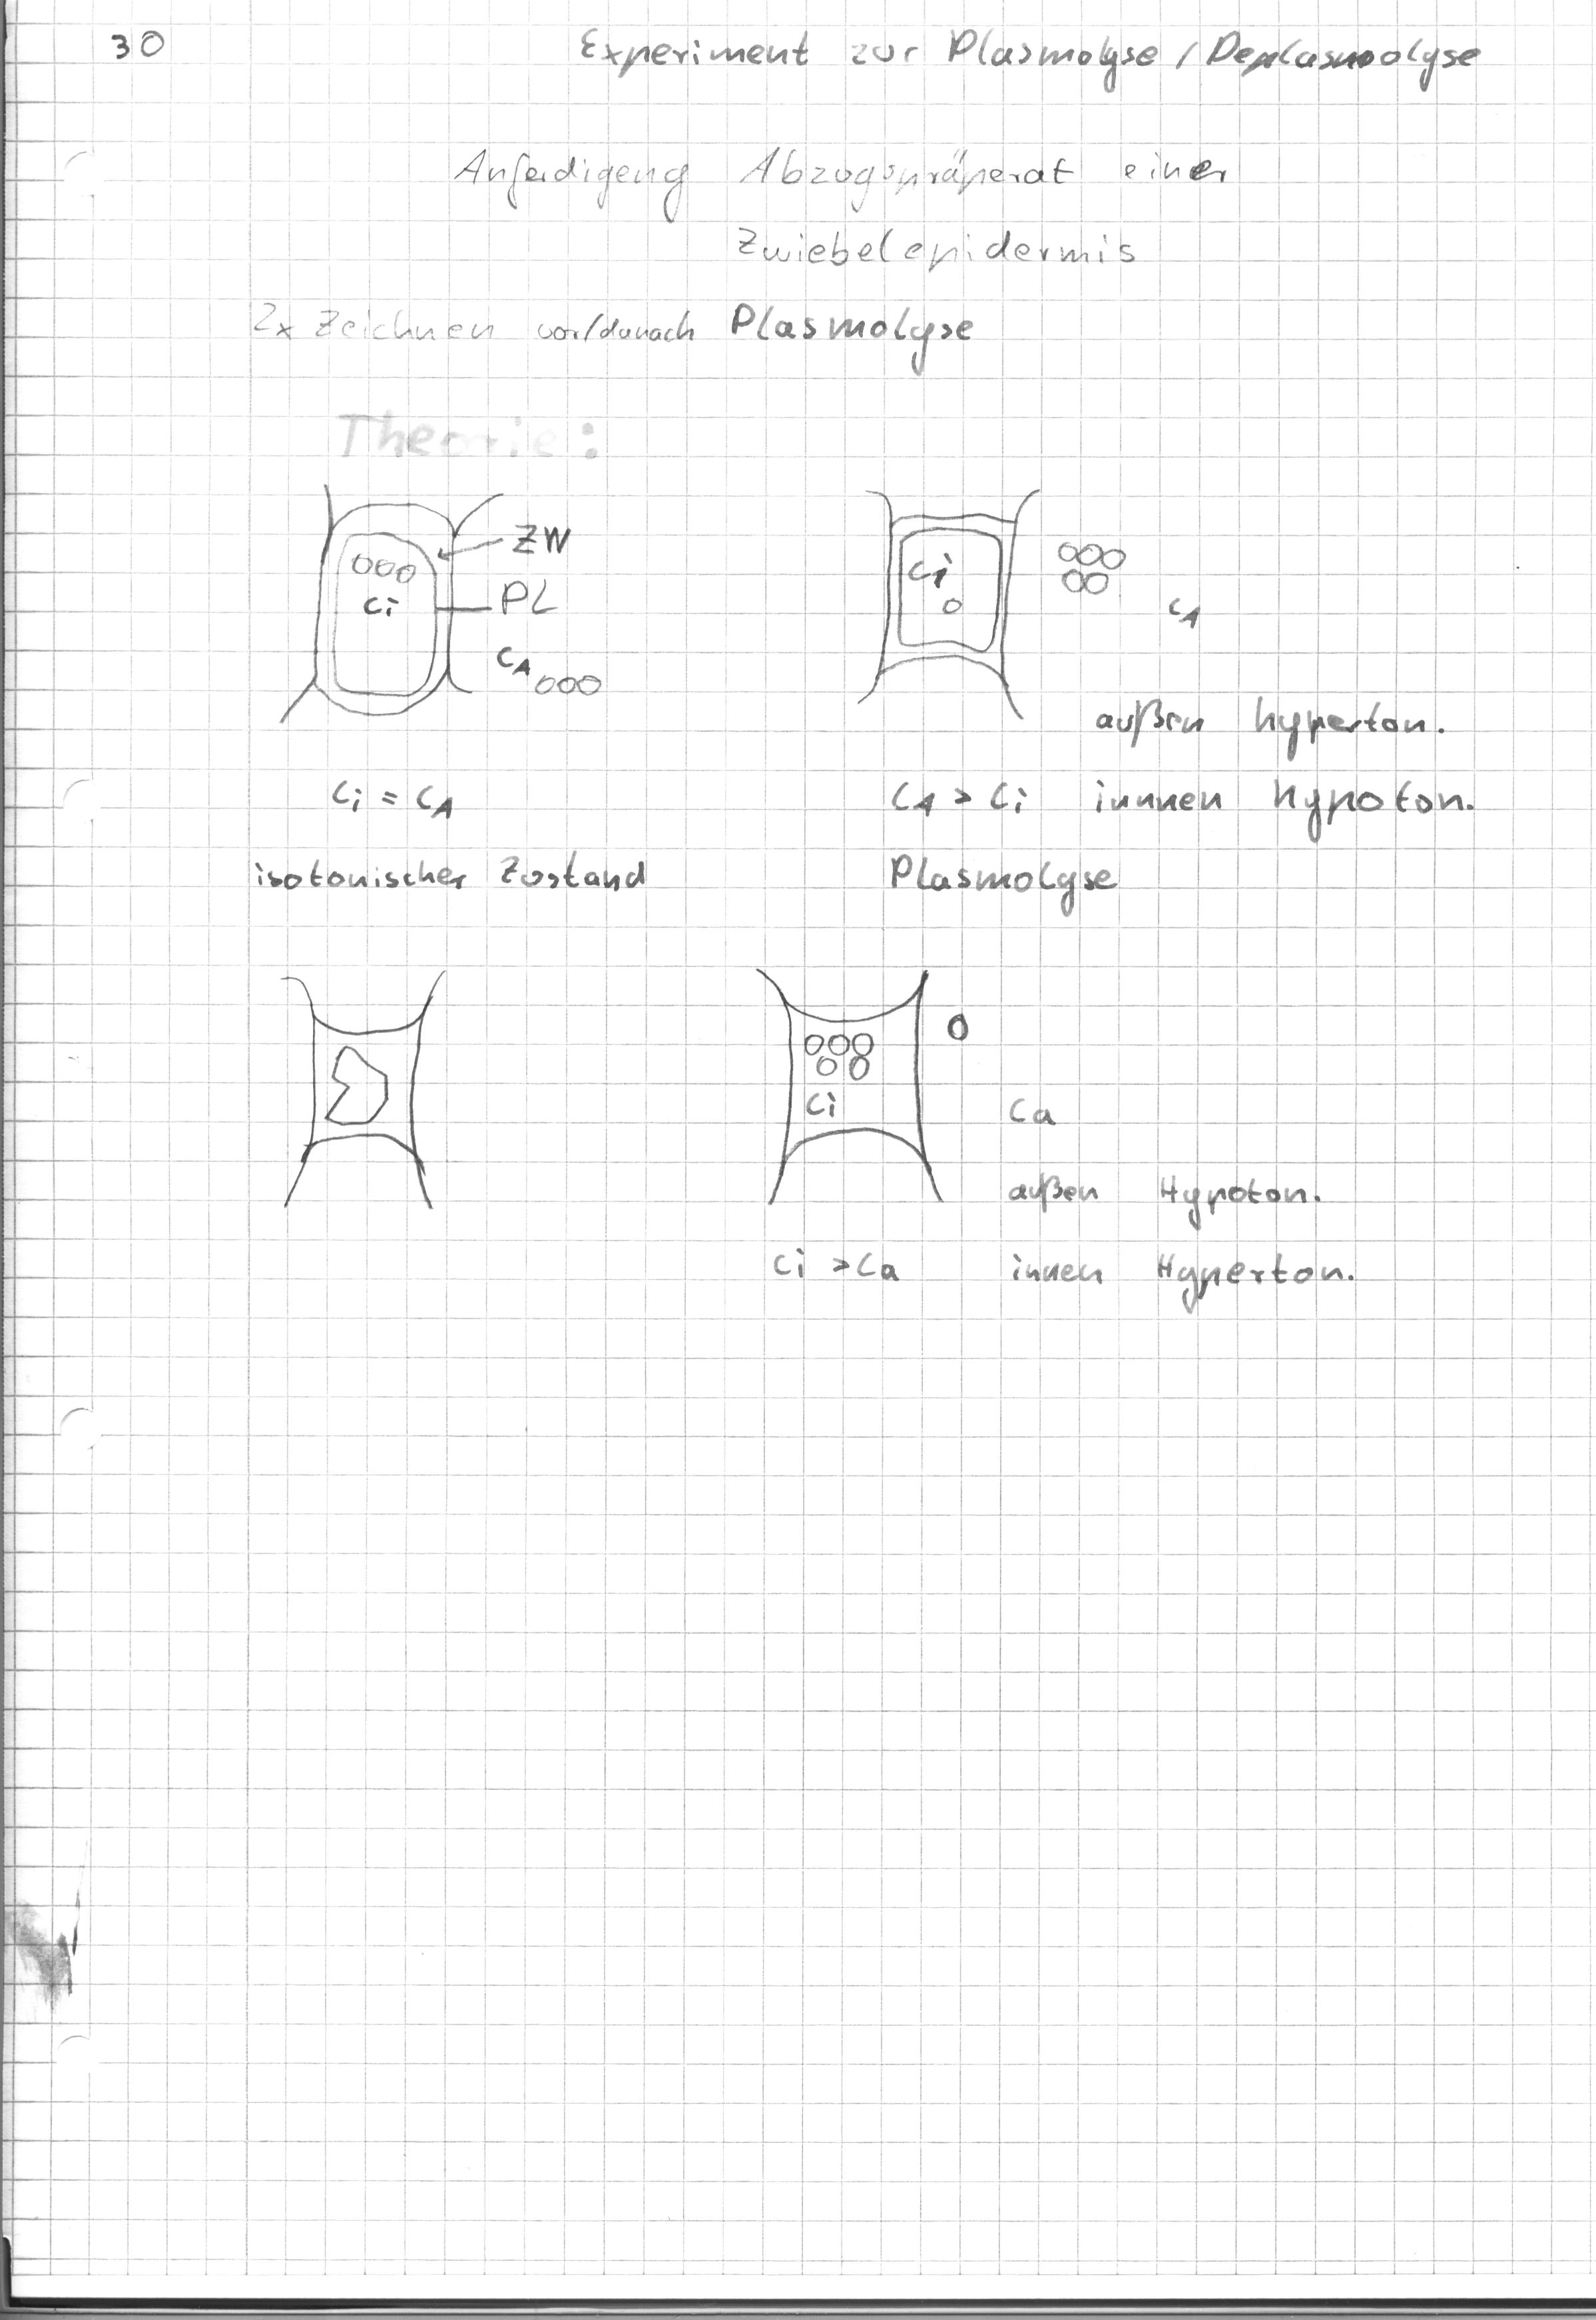word: (873, 753, 1479, 927), (997, 1091, 1364, 1321), (567, 19, 1491, 103), (242, 769, 669, 914), (1071, 677, 1454, 770), (721, 282, 986, 389), (756, 1219, 935, 1305)
